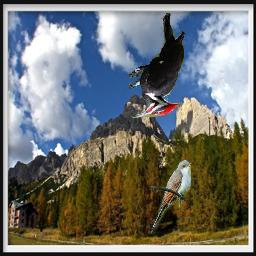Cuckoo: (149, 160, 191, 235)
Woodpecker: (129, 14, 185, 119)
